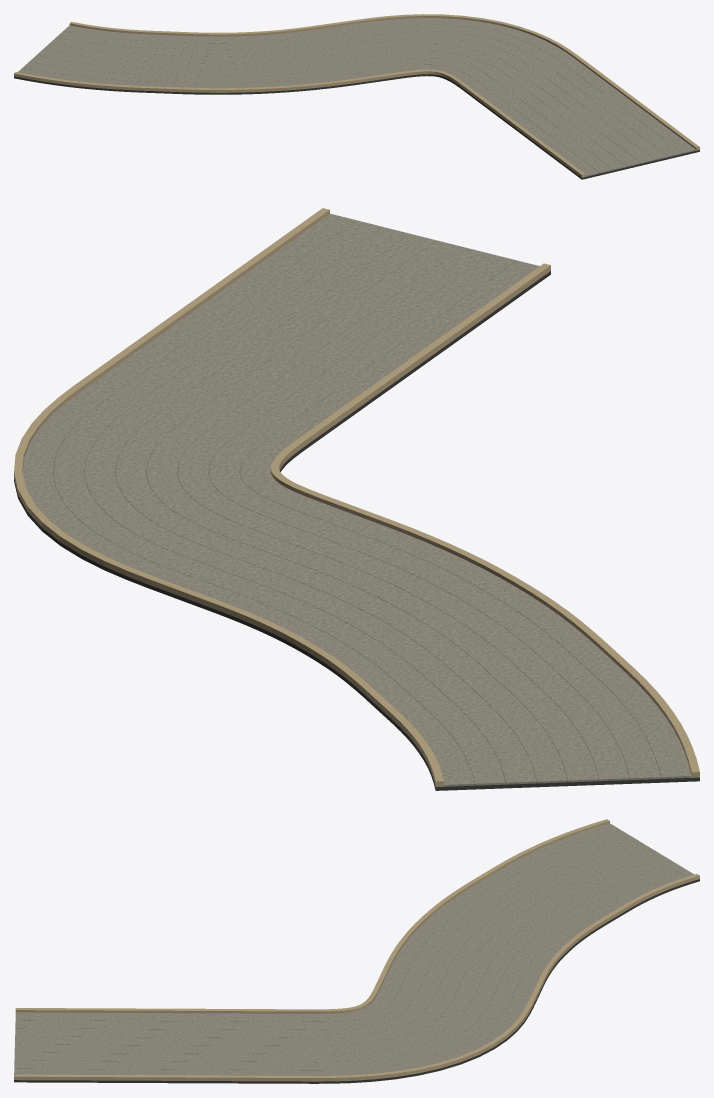
File: track_main_16.fbx
3 views of the same model, one above another, from view 1: azimuth 30°, elevation 25°; view 2: azimuth 150°, elevation 25°; view 3: azimuth 270°, elevation 25° (orthographic). The views are drawn at different scales.
Visible parts, largest first — view 1: roman_concrete.001, travertine.001, basalt.001; view 2: roman_concrete.001, travertine.001, basalt.001; view 3: roman_concrete.001, travertine.001, basalt.001.
Boxes of the visible parts, box(x1,y1,x2,y2) form: roman_concrete.001: box(18, 18, 696, 176); travertine.001: box(14, 14, 699, 177); basalt.001: box(14, 74, 699, 179); roman_concrete.001: box(22, 213, 691, 786); travertine.001: box(14, 208, 699, 787); basalt.001: box(14, 271, 699, 790); roman_concrete.001: box(14, 823, 694, 1075); travertine.001: box(14, 819, 699, 1081); basalt.001: box(14, 879, 699, 1083).
Size of the model in its own units: 385710 by 431805 by 4000.
